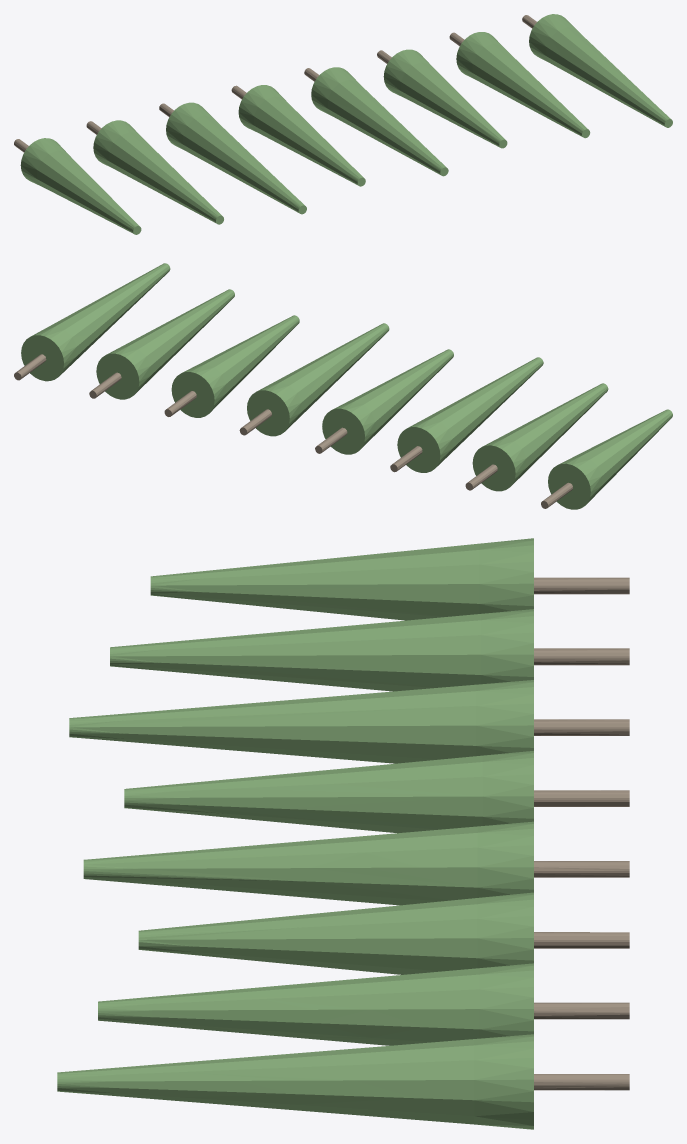
The model's file is r-147-twente-poplar-row.glb.
3 views of the same model, one above another, from view 1: azimuth 30°, elevation 25°; view 2: azimuth 150°, elevation 25°; view 3: azimuth 270°, elevation 25° (orthographic). The views are drawn at different scales.
Parts seen in each view (by area): view 1: foliage, trunks; view 2: foliage, trunks; view 3: foliage, trunks.
Part boxes in pixels (x1,y1,x2,y2): foliage: (20, 14, 672, 234); trunks: (14, 15, 536, 152); foliage: (21, 263, 672, 509); trunks: (14, 354, 572, 508); foliage: (57, 538, 533, 1129); trunks: (534, 577, 629, 1090).
Bounding box in the file's own units: 53000 × 3973 × 23897.
